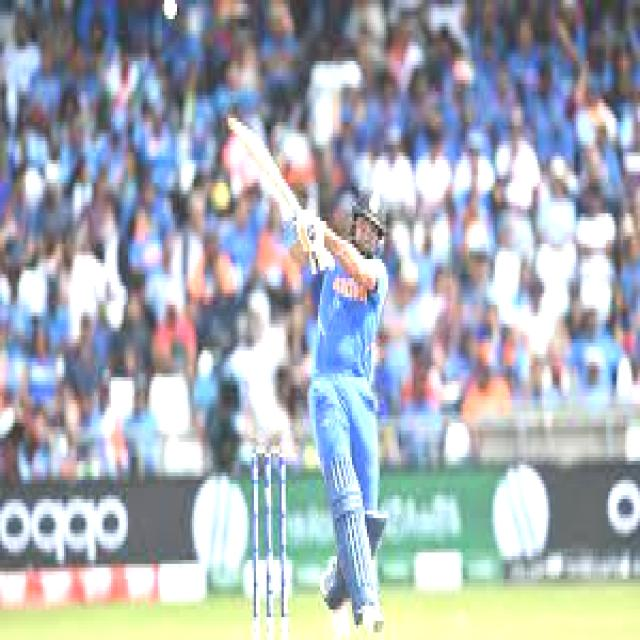toe: (222, 107, 242, 138)
